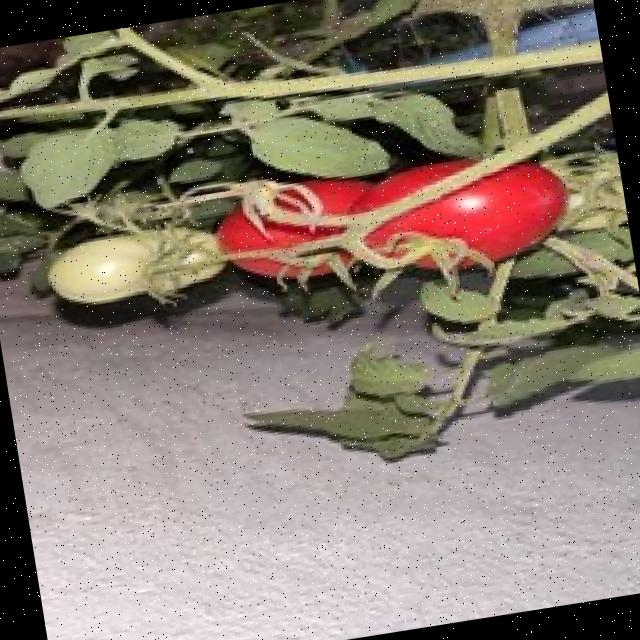tomato: (368, 162, 566, 261)
